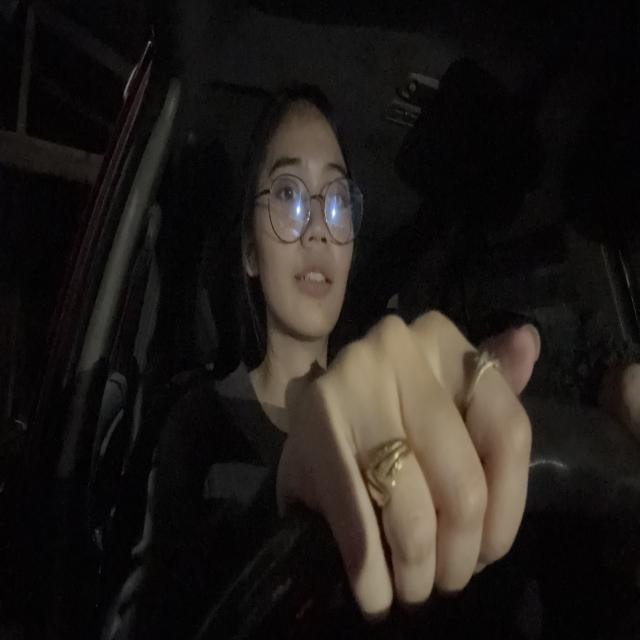open: (266, 152, 307, 218), (322, 156, 353, 222)
